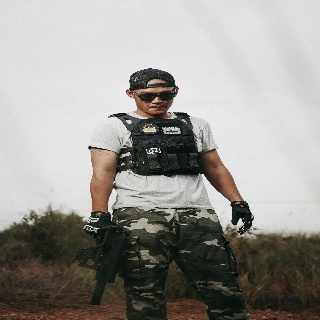rifle: (76, 221, 131, 309)
